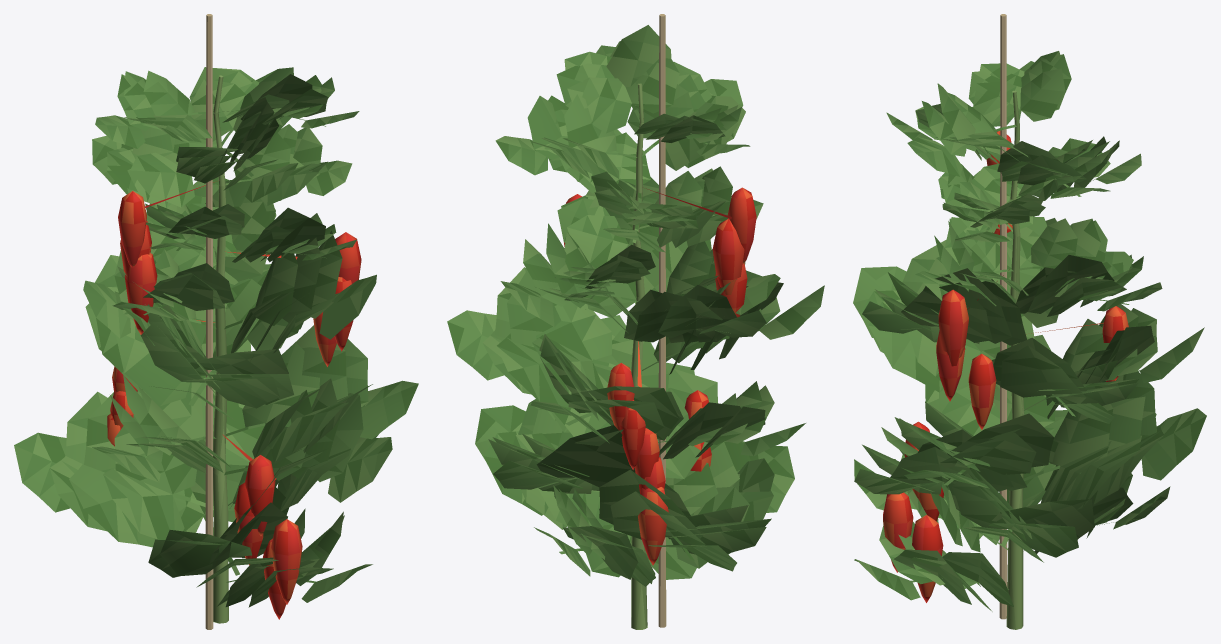
The model's file is tomate_cornue_mur.glb.
3 renders of one model, left to right at view 1: azimuth 30°, elevation 25°; view 2: azimuth 150°, elevation 25°; view 3: azimuth 270°, elevation 25°, orthographic.
Visible parts, largest first — view 1: Tomate_Feuilles, Tomate_Fruits, Tomate_Tige, Tomate_Tuteur; view 2: Tomate_Feuilles, Tomate_Fruits, Tomate_Tuteur, Tomate_Tige; view 3: Tomate_Feuilles, Tomate_Fruits, Tomate_Tige, Tomate_Tuteur.
Boxes of the visible parts, bbox=[...] form: Tomate_Feuilles: bbox=[14, 67, 418, 607]; Tomate_Fruits: bbox=[107, 182, 361, 619]; Tomate_Tige: bbox=[213, 75, 228, 623]; Tomate_Tuteur: bbox=[205, 14, 213, 629]; Tomate_Feuilles: bbox=[447, 25, 824, 586]; Tomate_Fruits: bbox=[564, 187, 756, 565]; Tomate_Tuteur: bbox=[658, 14, 666, 627]; Tomate_Tige: bbox=[631, 83, 647, 629]; Tomate_Feuilles: bbox=[853, 51, 1206, 611]; Tomate_Fruits: bbox=[883, 131, 1128, 602]; Tomate_Tige: bbox=[1006, 90, 1024, 629]; Tomate_Tuteur: bbox=[999, 14, 1007, 619].
Bounding box in the file's own units: 0.561 × 1.06 × 0.5641.
